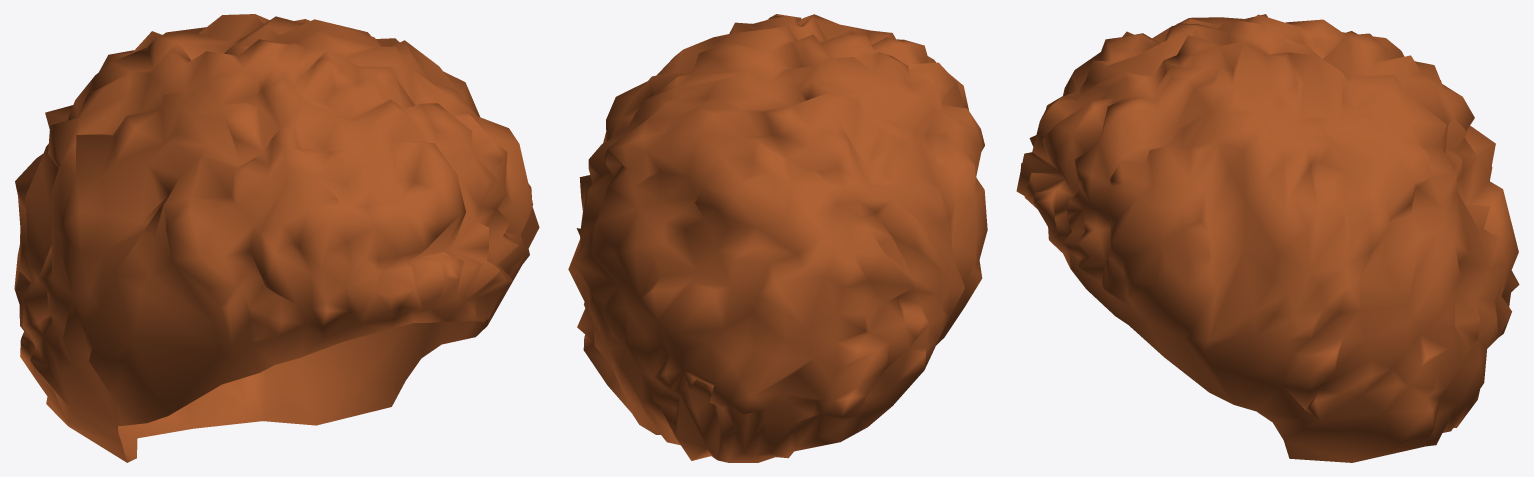
The picture shows the model from 3 angles, left to right: view 1: azimuth 30°, elevation 25°; view 2: azimuth 150°, elevation 25°; view 3: azimuth 270°, elevation 25°; orthographic projection. The views are drawn at different scales.
Parts seen in each view (by area): view 1: Wolf3D_Hair.119; view 2: Wolf3D_Hair.119; view 3: Wolf3D_Hair.119.
Boxes of the visible parts, left/top/right/bottom form: Wolf3D_Hair.119: left=14, top=14, right=539, bottom=462; Wolf3D_Hair.119: left=568, top=14, right=987, bottom=462; Wolf3D_Hair.119: left=1016, top=14, right=1519, bottom=462.
Size of the model in its own units: 0.1824 by 0.1798 by 0.203.
1 material, 1 textured.
